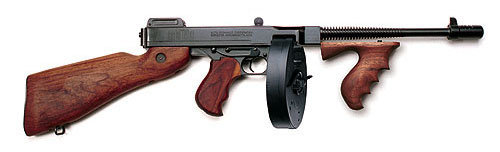rifle: (24, 18, 492, 137)
